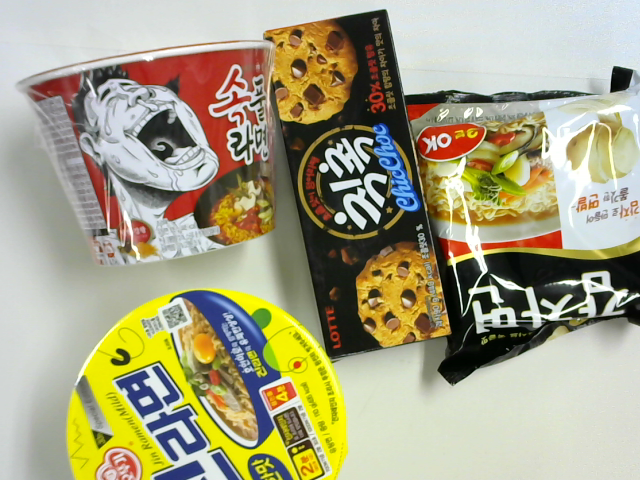Chicchok_Original_2400: (264, 11, 454, 366)
Hejangpul: (16, 40, 276, 268)
Jinlamyeon_Mild_Taste_Large_Cup: (66, 289, 348, 480)
Potato: (403, 66, 640, 387)
